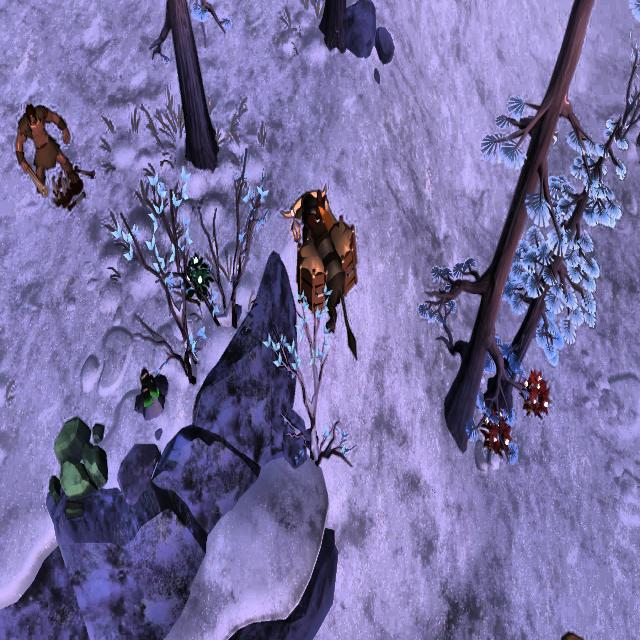fiber_t3: (182, 250, 212, 307)
fiber_t5: (480, 404, 513, 468), (519, 364, 550, 422)
ore_t3: (136, 364, 160, 410)
rock_t3: (43, 412, 110, 510)
